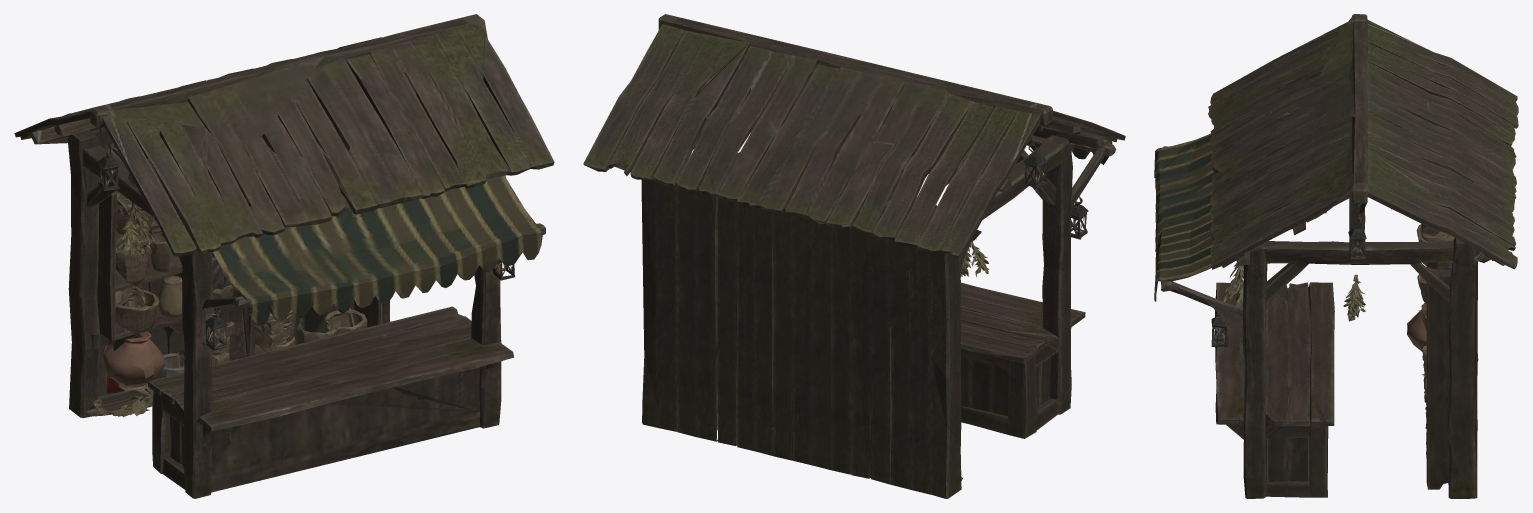
File: sp_m_booth.glb
3 views of the same model, side by side, from view 1: azimuth 30°, elevation 25°; view 2: azimuth 150°, elevation 25°; view 3: azimuth 270°, elevation 25° (orthographic). The views are drawn at different scales.
Parts seen in each view (by area): view 1: Mesh_0; view 2: Mesh_0; view 3: Mesh_0.
Part boxes in pixels (left/top/right/bottom): Mesh_0: left=14, top=14, right=554, bottom=498; Mesh_0: left=583, top=14, right=1125, bottom=498; Mesh_0: left=1154, top=14, right=1518, bottom=498.
Size of the model in its own units: 1.9 by 1.65 by 1.66.
1 material, 1 textured.
